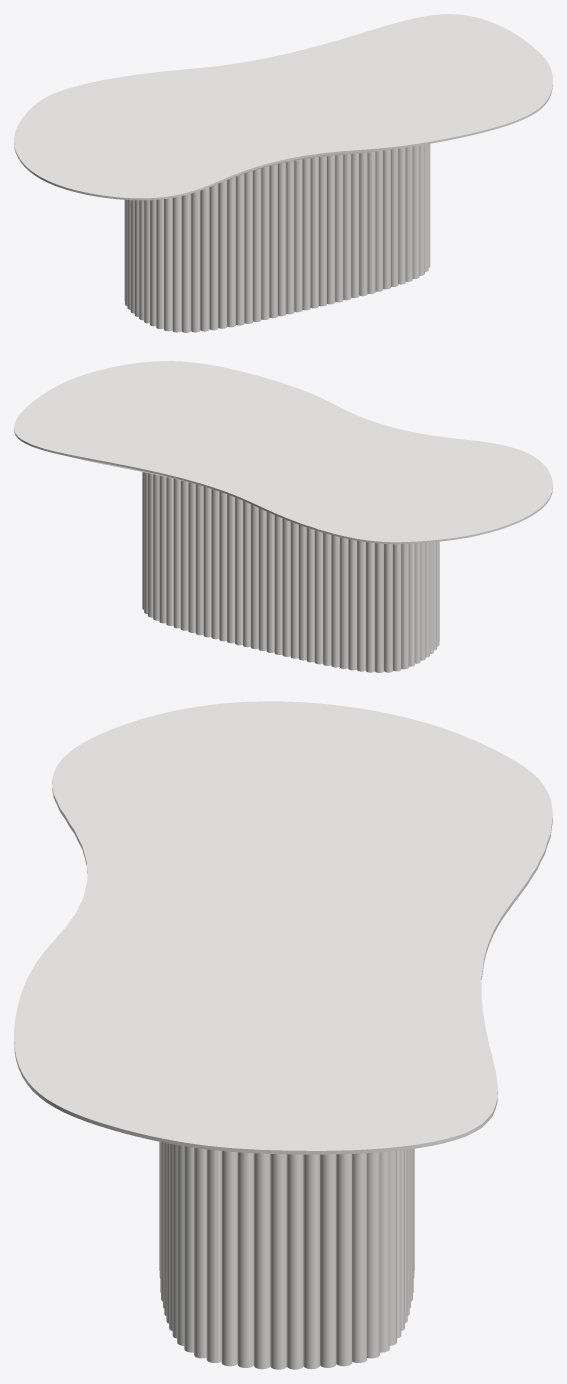
File: purewhite_wave_facet_newtable.glb
3 views of the same model, one above another, from view 1: azimuth 30°, elevation 25°; view 2: azimuth 150°, elevation 25°; view 3: azimuth 270°, elevation 25° (orthographic). The views are drawn at different scales.
Visible parts, largest first — view 1: facet_wave, newtable; view 2: facet_wave, newtable; view 3: facet_wave, newtable.
Boxes of the visible parts, x1=… form: facet_wave: x1=14, y1=14, x2=552, y2=200; newtable: x1=124, y1=144, x2=430, y2=332; facet_wave: x1=14, y1=361, x2=552, y2=544; newtable: x1=142, y1=472, x2=439, y2=672; facet_wave: x1=14, y1=701, x2=552, y2=1154; newtable: x1=159, y1=1141, x2=414, y2=1369.
Bounding box in the file's own units: 7.5 × 2.5 × 3.8.
Materials: 2 (2 with a texture image).
